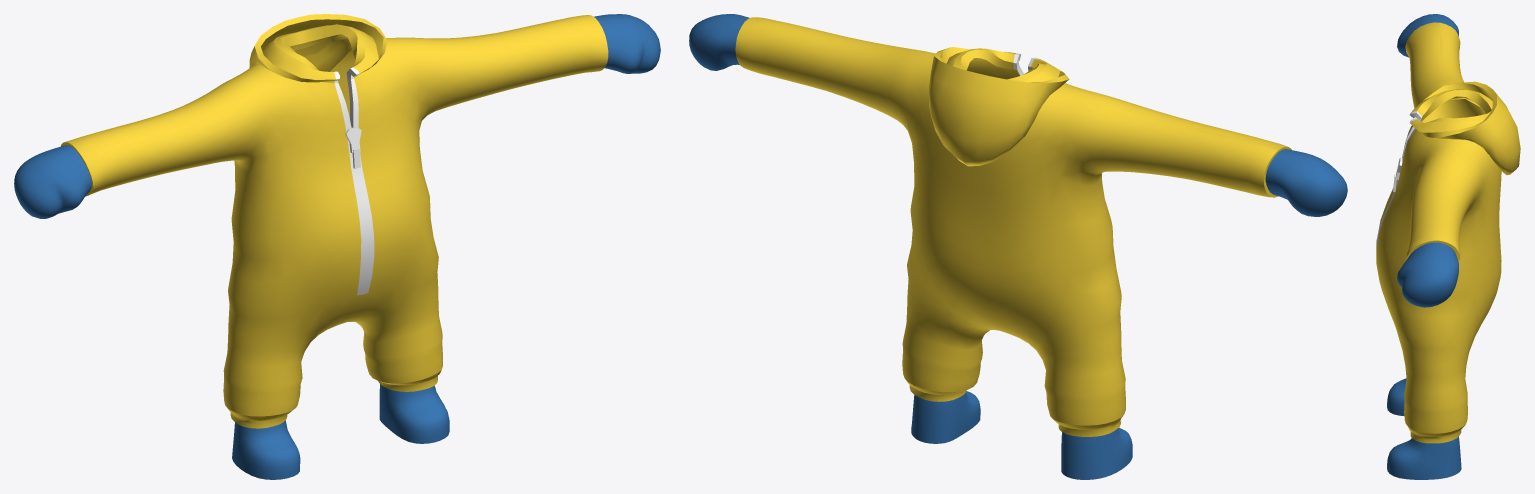
Rendered from 5防护套装.fbx.
3 renders of one model, left to right at view 1: azimuth 30°, elevation 25°; view 2: azimuth 150°, elevation 25°; view 3: azimuth 270°, elevation 25°, orthographic. The views are drawn at different scales.
Visible parts, largest first — view 1: 5防护套装; view 2: 5防护套装; view 3: 5防护套装.
Part boxes in pixels (left/top/right/bottom): 5防护套装: left=14, top=14, right=660, bottom=479; 5防护套装: left=689, top=14, right=1347, bottom=479; 5防护套装: left=1376, top=14, right=1520, bottom=479.
Size of the model in its own units: 1.99 by 1.18 by 0.4565.
